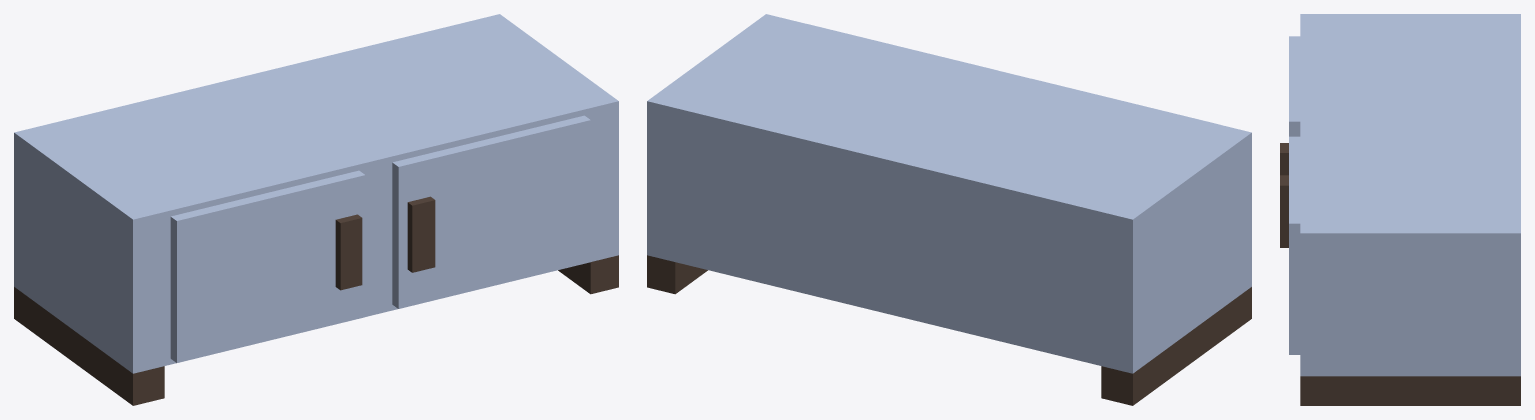
File: TVCabinet.fbx
3 views of the same model, side by side, from view 1: azimuth 30°, elevation 25°; view 2: azimuth 150°, elevation 25°; view 3: azimuth 270°, elevation 25° (orthographic). The views are drawn at different scales.
Parts seen in each view (by area): view 1: TVcabinet; view 2: TVcabinet; view 3: TVcabinet.
Part boxes in pixels (box(x1,y1,x2,y2)): TVcabinet: box(14, 14, 618, 405); TVcabinet: box(647, 14, 1251, 405); TVcabinet: box(1280, 14, 1520, 405).
Size of the model in its own units: 236 by 86.32 by 109.
